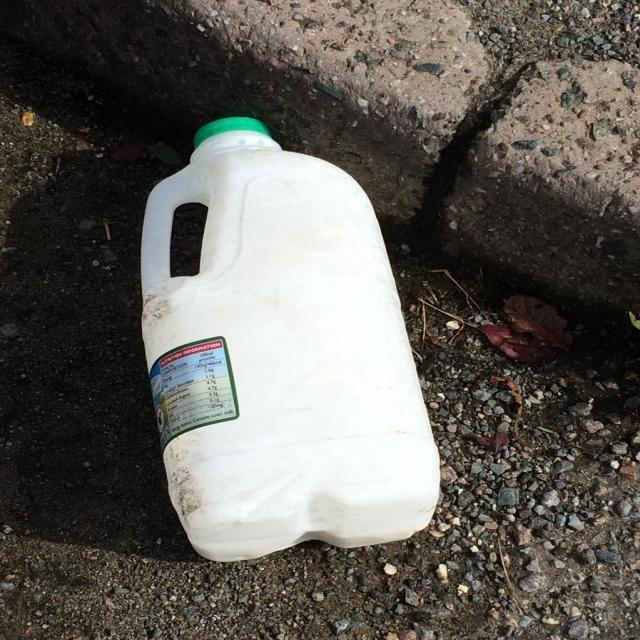HDPE Plastic: (132, 113, 448, 570)
